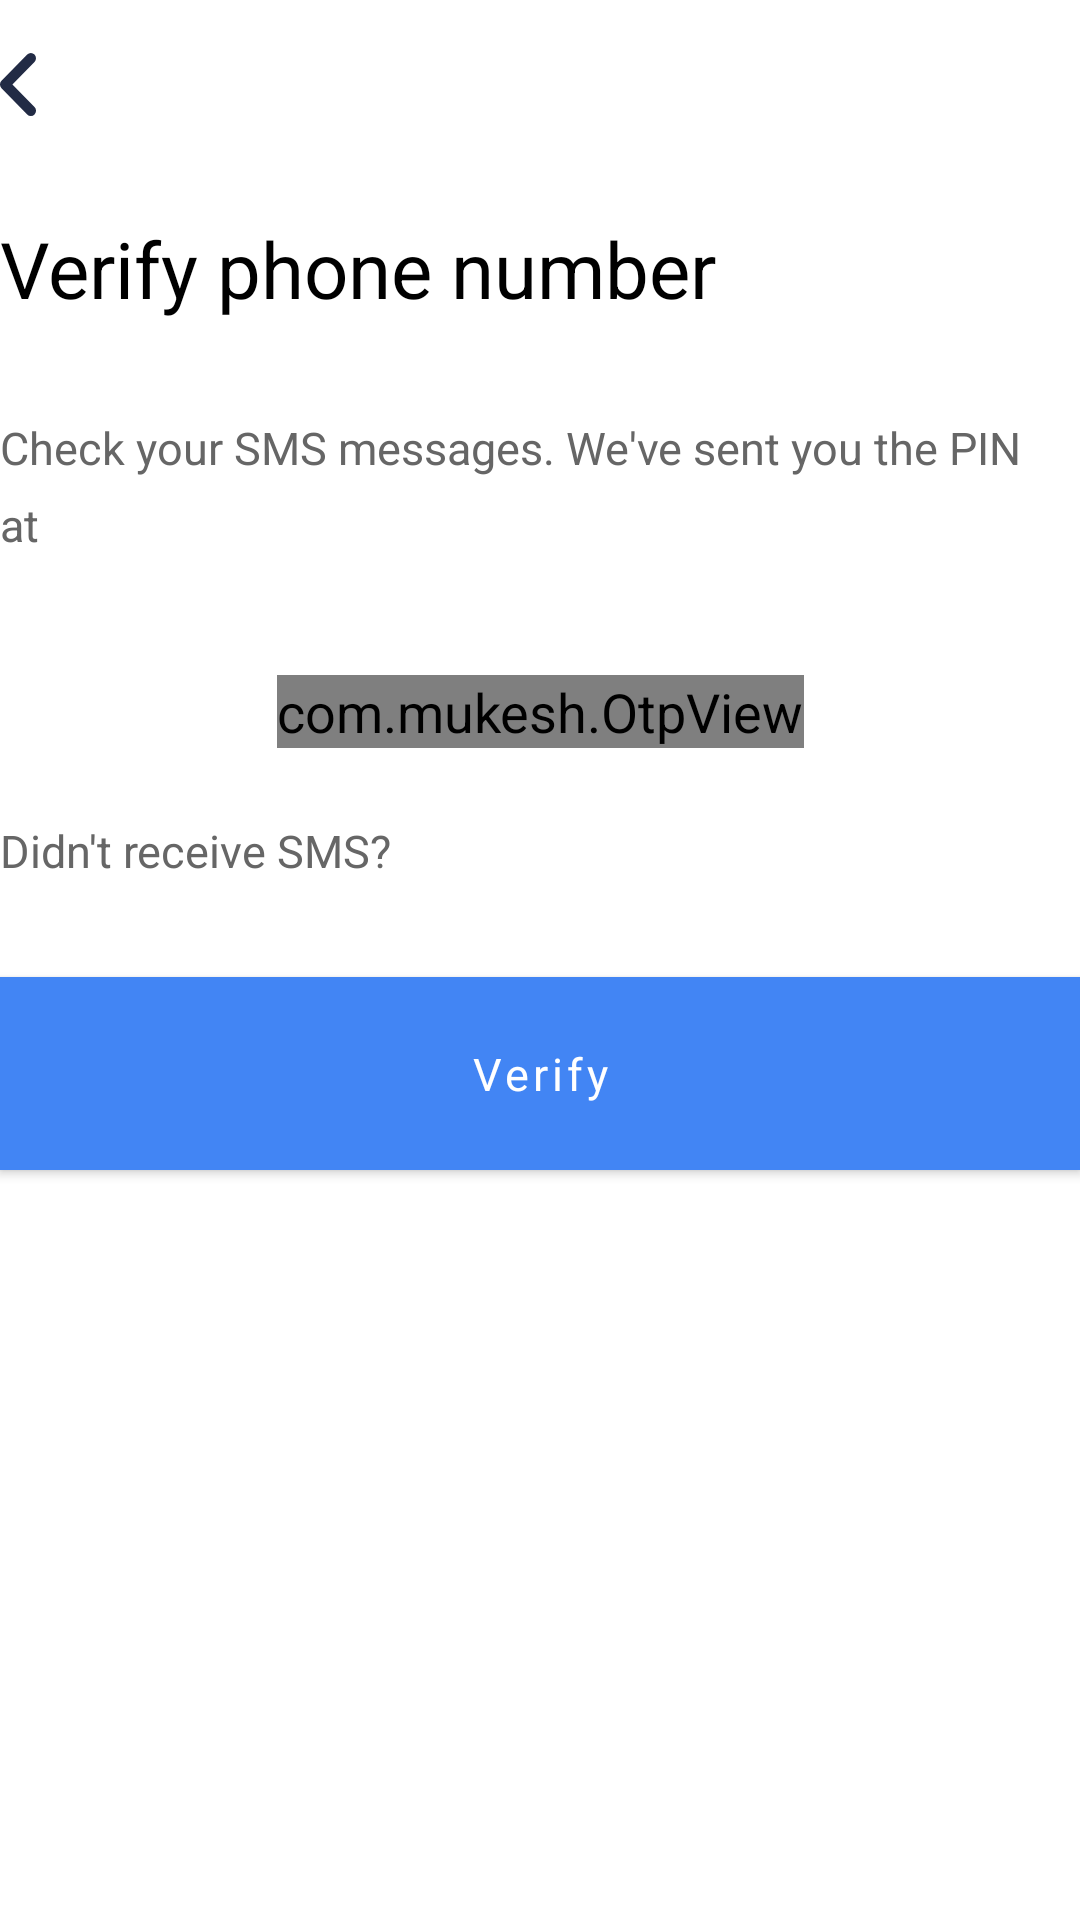

Where to tap for icons on this 1080px x 1920px app screen, as (x,y):
back: (18,84)
